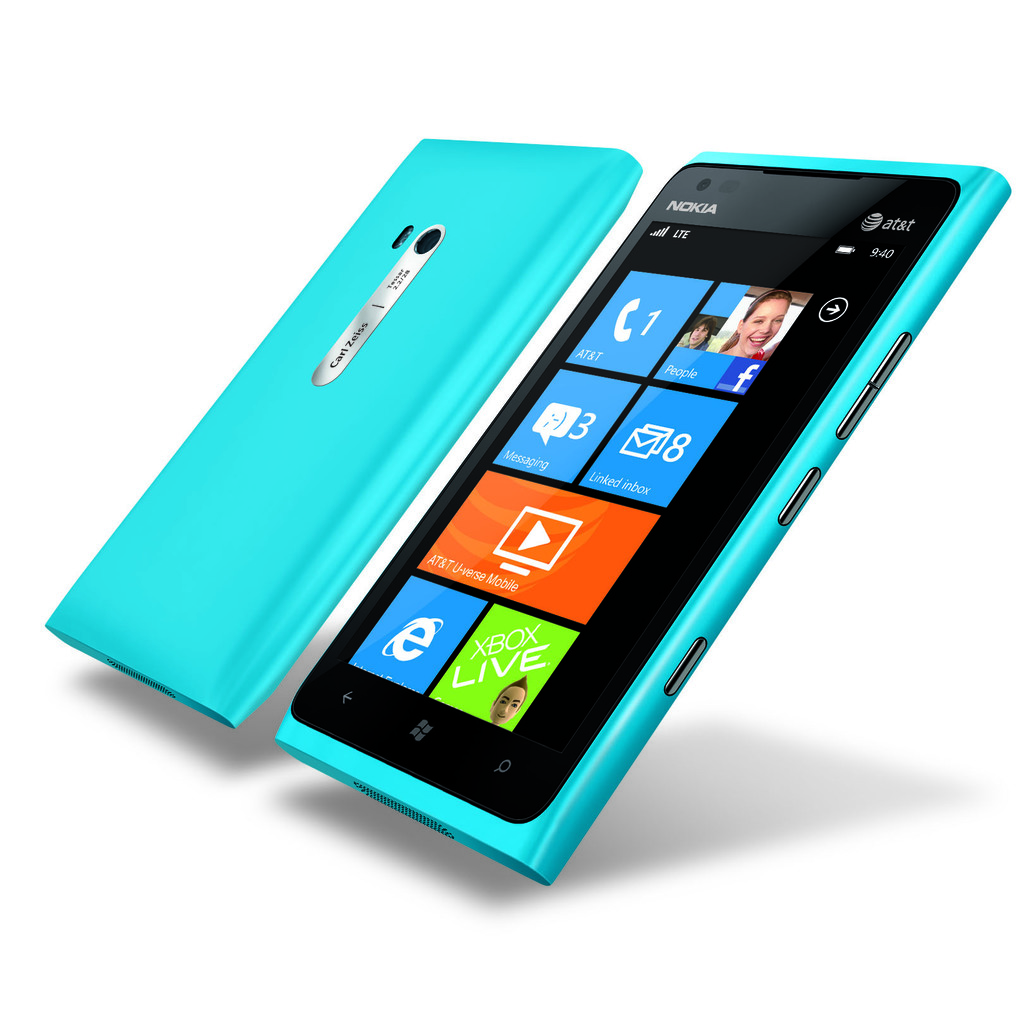mobile phone: (273, 151, 1013, 883), (39, 134, 640, 736)
